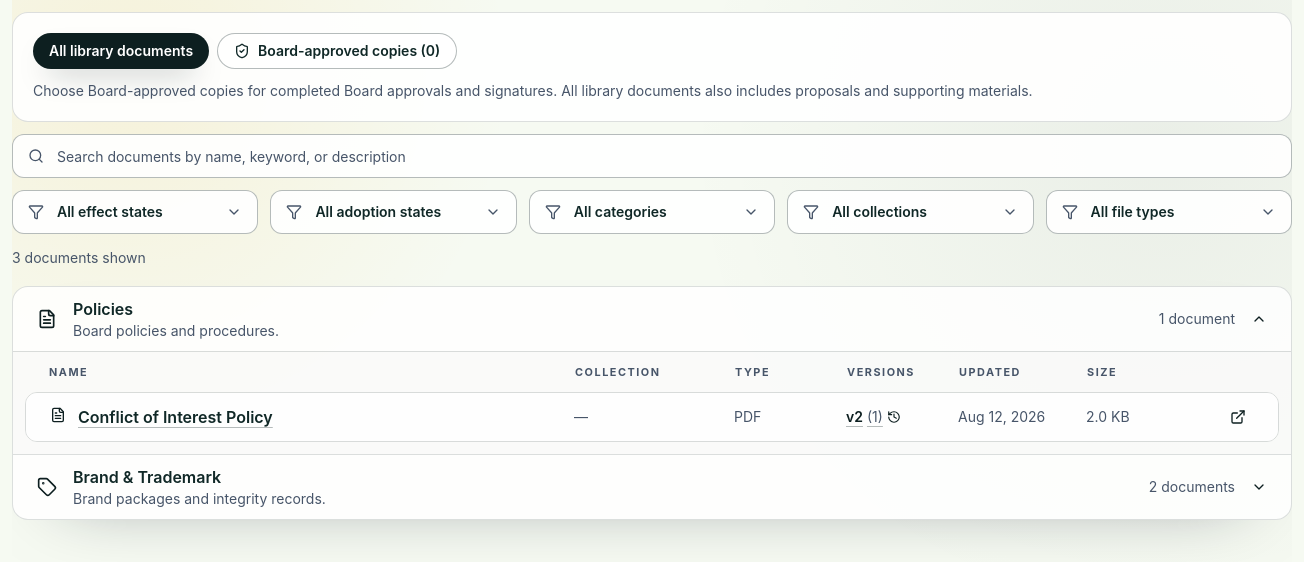
Test: DocumentLibrary › excludes archived records and their filter metadata for non-managers
Expected: the text "3 documents shown" is shown, 12,248 -> 146,268
In the search field: {"x": 652, "y": 156} 12,134 -> 1292,178, type "previous"
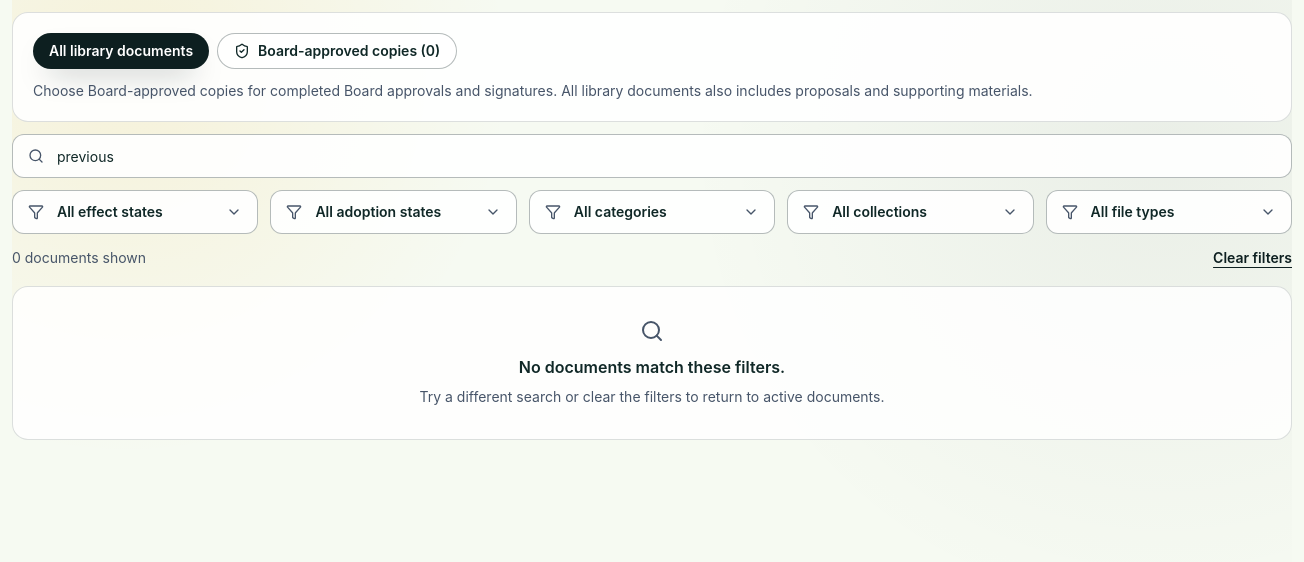
Now the text "0 documents shown" is shown, box 12,248 -> 146,268
